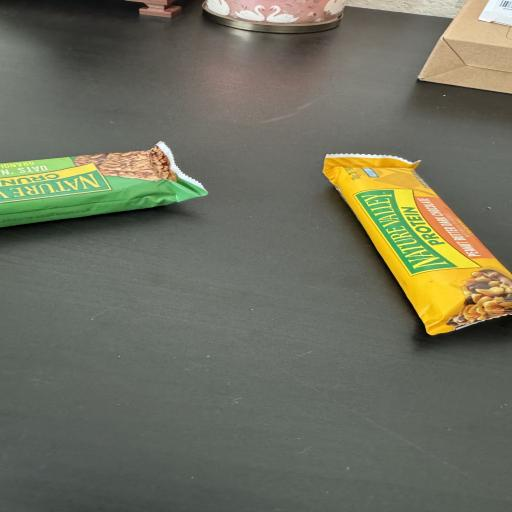granola: (324, 154, 511, 334), (0, 142, 207, 226)
